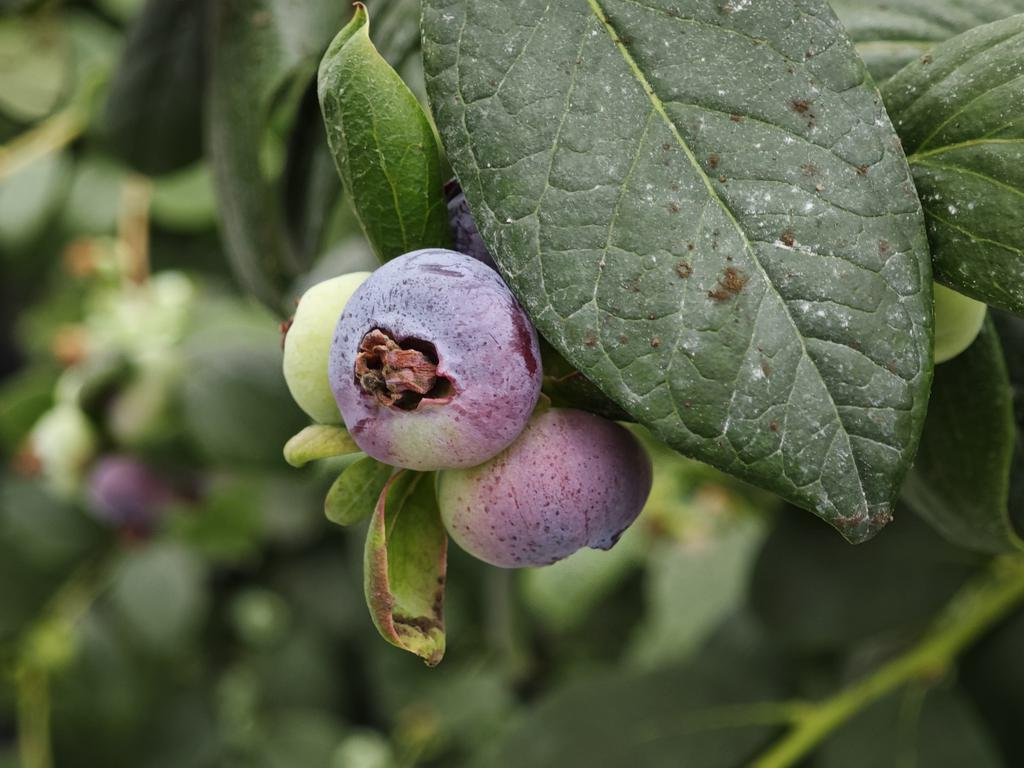Semi-RipeBlueBerry: (330, 248, 547, 471), (444, 411, 650, 564)
